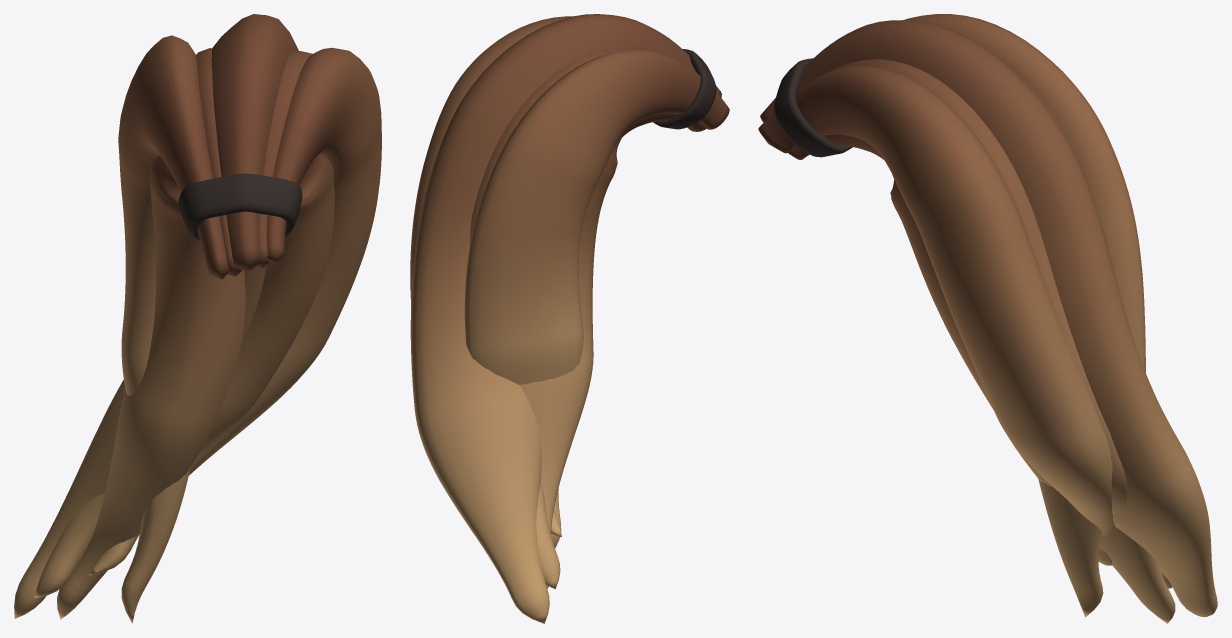
File: ponytail-beanie-ombre.glb
The picture shows the model from 3 angles, left to right: view 1: azimuth 30°, elevation 25°; view 2: azimuth 150°, elevation 25°; view 3: azimuth 270°, elevation 25°; orthographic projection. The views are drawn at different scales.
Parts seen in each view (by area): view 1: Hair / rounded tail220 1, Hair / rounded tail220 0, Hair / rounded tail220 4, Hair / rounded tail220 2, Hair / rounded tail220 3, Hair / tie220; view 2: Hair / rounded tail220 2, Hair / rounded tail220 0, Hair / rounded tail220 1, Hair / rounded tail220 4, Hair / tie220, Hair / rounded tail220 3; view 3: Hair / rounded tail220 4, Hair / rounded tail220 2, Hair / rounded tail220 0, Hair / rounded tail220 3, Hair / rounded tail220 1, Hair / tie220.
Part boxes in pixels (x1,y1,x2,y2): Hair / rounded tail220 1: (57,48,245,619); Hair / rounded tail220 0: (118,35,228,623); Hair / rounded tail220 4: (88,47,381,575); Hair / rounded tail220 2: (14,14,298,618); Hair / rounded tail220 3: (34,50,334,598); Hair / tie220: (178,173,302,240); Hair / rounded tail220 2: (410,14,721,623); Hair / rounded tail220 0: (464,50,729,548); Hair / rounded tail220 1: (470,48,706,588); Hair / rounded tail220 4: (410,16,571,537); Hair / tie220: (653,49,716,129); Hair / rounded tail220 3: (536,481,560,589); Hair / rounded tail220 4: (758,66,1115,565); Hair / rounded tail220 2: (760,20,1217,616); Hair / rounded tail220 0: (904,14,1145,617); Hair / rounded tail220 3: (788,59,1172,588); Hair / rounded tail220 1: (1008,71,1175,623); Hair / tie220: (774,58,852,157).
Bounding box in the file's own units: 0.1835 × 0.4144 × 0.2722.
6 materials, 5 textured.
